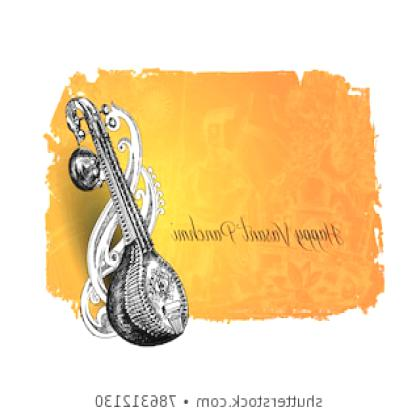Veena: (64, 97, 198, 338)
